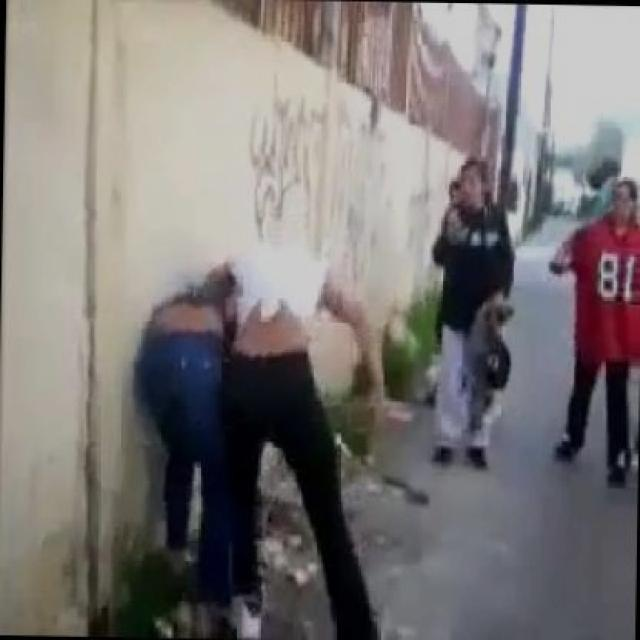fight: (117, 227, 430, 637)
non-fight: (406, 145, 536, 477), (534, 153, 638, 484)
